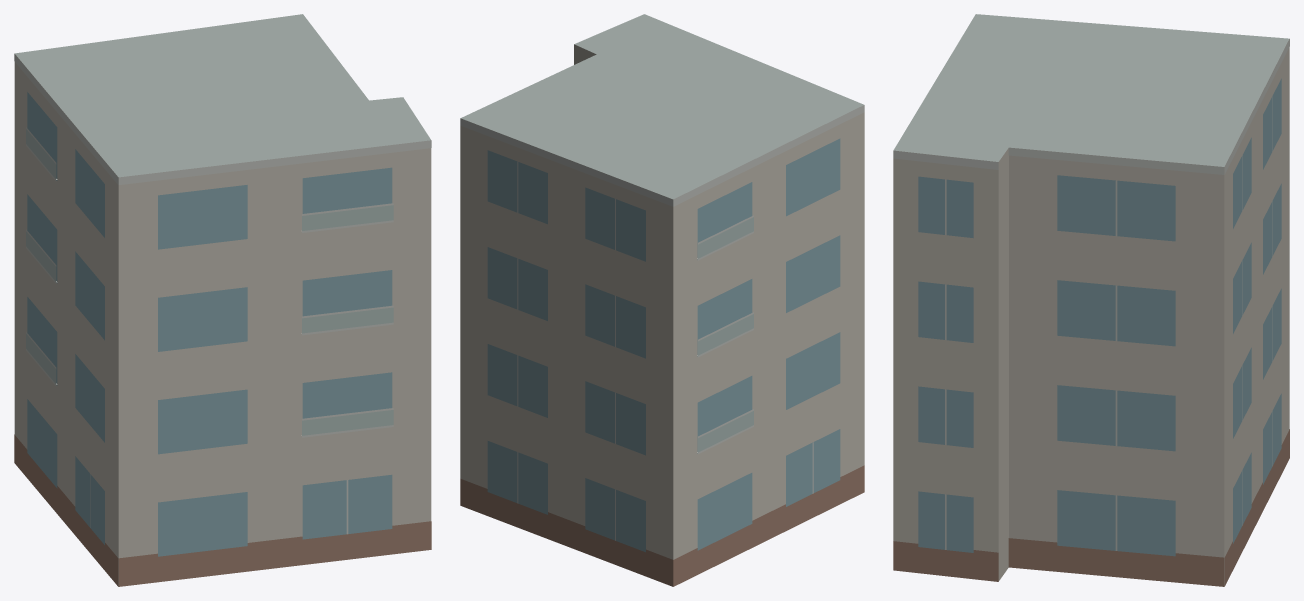
The model's file is survey-upis-32750576.glb.
3 views of the same model, side by side, from view 1: azimuth 30°, elevation 25°; view 2: azimuth 150°, elevation 25°; view 3: azimuth 270°, elevation 25° (orthographic). The views are drawn at different scales.
Visible parts, largest first — view 1: survey-upis-32750576.tmp; view 2: survey-upis-32750576.tmp; view 3: survey-upis-32750576.tmp.
Boxes of the visible parts, x1,y1,x2,y2 form: survey-upis-32750576.tmp: (14,14,431,586); survey-upis-32750576.tmp: (460,14,864,586); survey-upis-32750576.tmp: (893,14,1289,586).
Bounding box in the file's own units: 10.01 × 12.8 × 10.96.
